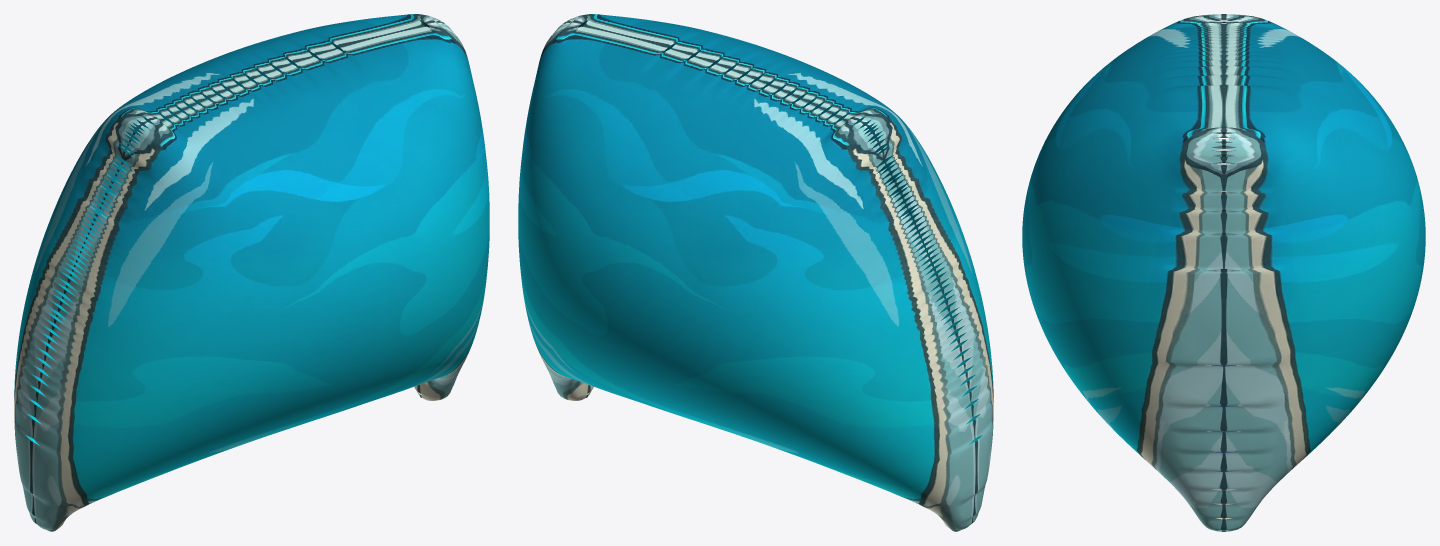
File: aquarium_window.glb
The picture shows the model from 3 angles, left to right: view 1: azimuth 30°, elevation 25°; view 2: azimuth 150°, elevation 25°; view 3: azimuth 270°, elevation 25°; orthographic projection. The views are drawn at different scales.
Parts seen in each view (by area): view 1: aquarium_window; view 2: aquarium_window; view 3: aquarium_window.
Part boxes in pixels (<box>): aquarium_window: <box>14,14,489,531</box>; aquarium_window: <box>518,14,993,531</box>; aquarium_window: <box>1022,14,1425,531</box>.
Bounding box in the file's own units: 0.989 × 0.9078 × 0.7572.
1 material, 1 textured.
